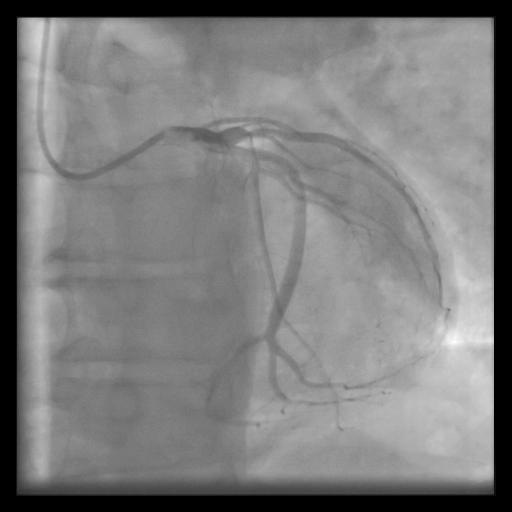Stenosis: (245, 136, 263, 172)
